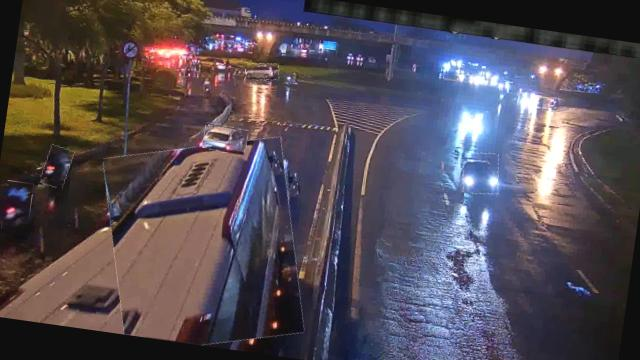Bike: (0, 180, 33, 232), (41, 144, 72, 188)
Bus: (89, 124, 318, 357)
Car: (460, 150, 501, 197), (202, 122, 248, 154), (244, 60, 279, 82)
